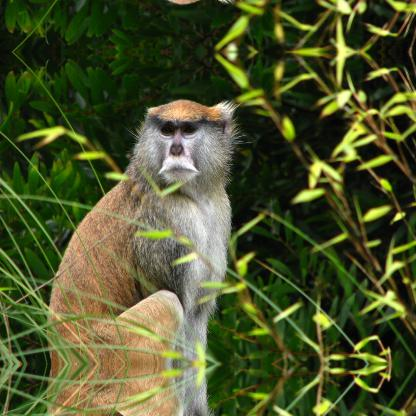Monkey: (47, 99, 253, 363)
